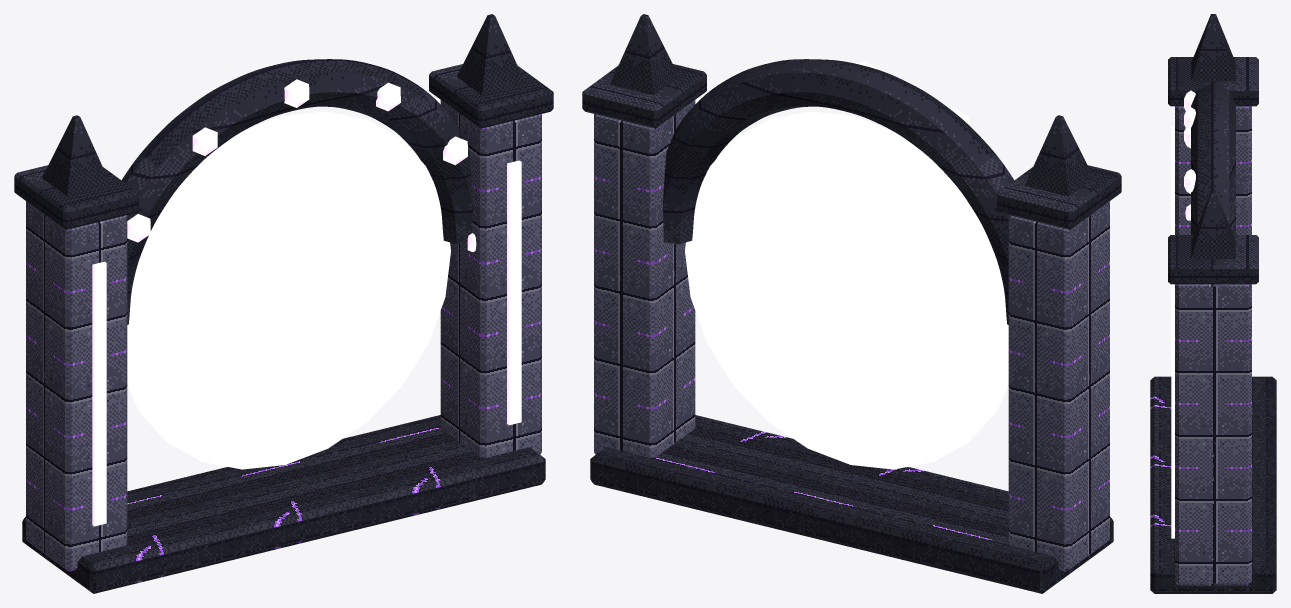
The model's file is rush_gate.glb.
The picture shows the model from 3 angles, left to right: view 1: azimuth 30°, elevation 25°; view 2: azimuth 150°, elevation 25°; view 3: azimuth 270°, elevation 25°; orthographic projection. The views are drawn at different scales.
Parts seen in each view (by area): view 1: Gate, Disc, Glow; view 2: Gate, Disc; view 3: Gate, Glow.
Boxes of the visible parts, x1=… form: Gate: x1=14, y1=14, x2=553, y2=593; Disc: x1=127, y1=111, x2=450, y2=469; Glow: x1=92, y1=79, x2=521, y2=526; Gate: x1=582, y1=14, x2=1121, y2=593; Disc: x1=685, y1=111, x2=1008, y2=469; Gate: x1=1150, y1=14, x2=1276, y2=593; Glow: x1=1171, y1=90, x2=1195, y2=538.
Bounding box in the file's own units: 7.1 × 6.22 × 1.8.
5 materials, 3 textured.
